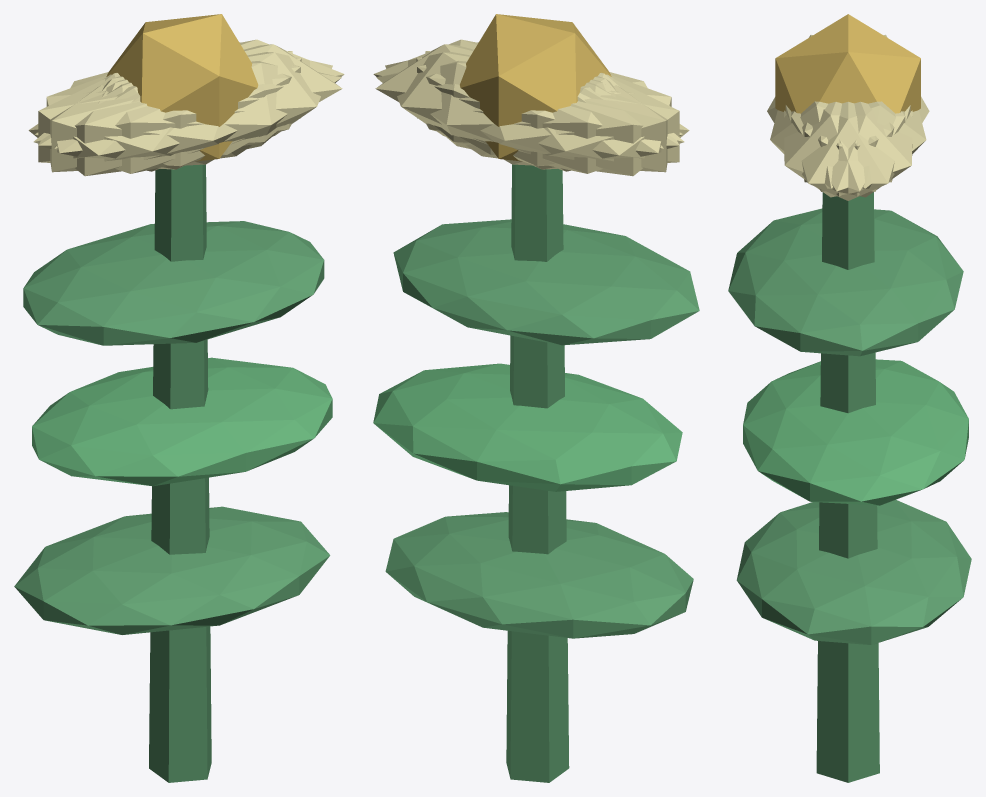
File: stachytarpheta-jamaicensis.glb
The picture shows the model from 3 angles, left to right: view 1: azimuth 30°, elevation 25°; view 2: azimuth 150°, elevation 25°; view 3: azimuth 270°, elevation 25°; orthographic projection.
Visible parts, largest first — view 1: leaf2, leaf0, leaf1, stem, center, petal1, petal6, petal2, petal5, petal7, petal0, petal4 (+2 smaller); view 2: leaf1, leaf2, leaf0, stem, center, petal8, petal3, petal7, petal4, petal2, petal0, petal5 (+2 smaller); view 3: leaf2, leaf1, leaf0, stem, center, petal0, petal4, petal5, petal1, petal8.
Part boxes in pixels (x1,y1,x2,y2): leaf2: (23,221,324,345); leaf0: (14,506,330,634); leaf1: (32,357,332,486); stem: (149,164,211,782); center: (106,14,258,161); petal1: (33,61,341,173); petal6: (28,74,251,176); petal2: (50,51,292,172); petal5: (54,52,332,166); petal7: (38,57,301,169); petal0: (106,44,342,155); petal4: (35,39,344,145); leaf1: (373,363,682,491); leaf2: (393,219,699,345); leaf0: (385,512,693,638); stem: (506,164,569,782); center: (460,14,611,161); petal8: (376,61,684,173); petal3: (466,74,689,176); petal7: (425,51,667,172); petal4: (385,52,663,166); petal2: (416,57,679,169); petal0: (375,44,611,155); petal5: (373,39,682,145); leaf2: (728,208,963,356); leaf1: (743,359,968,505); leaf0: (736,499,971,644); stem: (816,192,879,782); center: (775,14,920,113); petal0: (785,101,910,200); petal4: (791,101,912,197); petal5: (784,102,905,197); petal1: (770,101,894,188); petal8: (802,101,926,188).
Bounding box in the file's own units: 0.1489 × 0.3414 × 0.1024.
